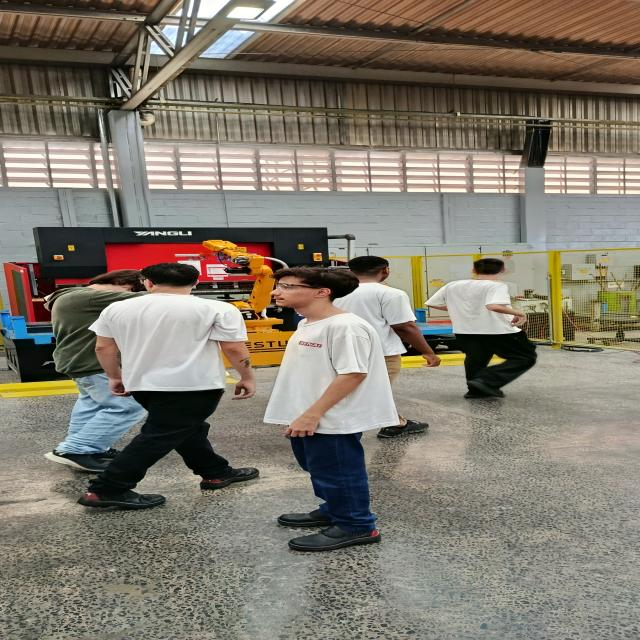oculos-epi: (275, 284, 322, 292), (139, 279, 143, 284)
